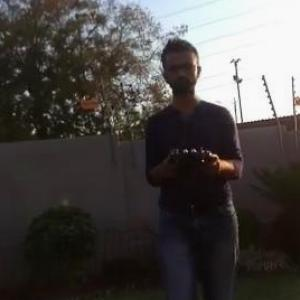follow: (139, 32, 252, 299)
